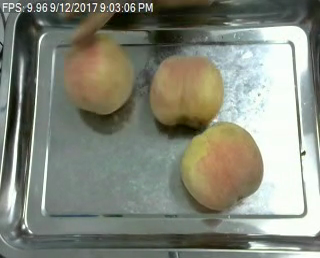Peach: (181, 120, 264, 211), (64, 36, 135, 115), (149, 55, 224, 129)
